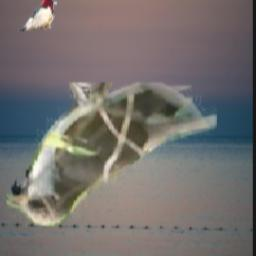Cuckoo: (5, 83, 216, 226)
Woodpecker: (18, 0, 60, 32)
